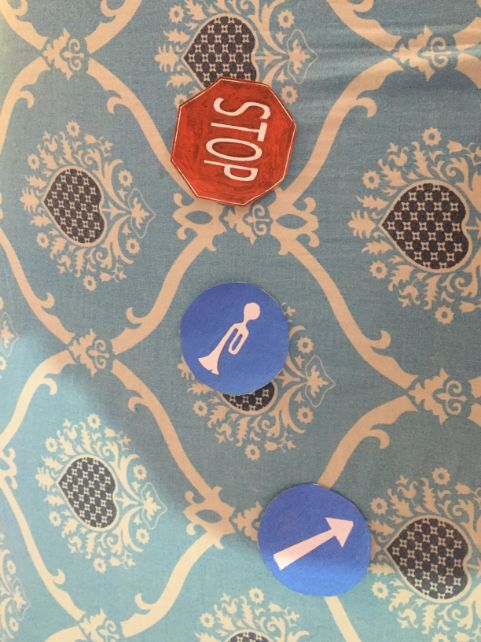blow-horn: (179, 284, 291, 396)
keep-left: (258, 482, 373, 597)
stop: (171, 79, 300, 208)
